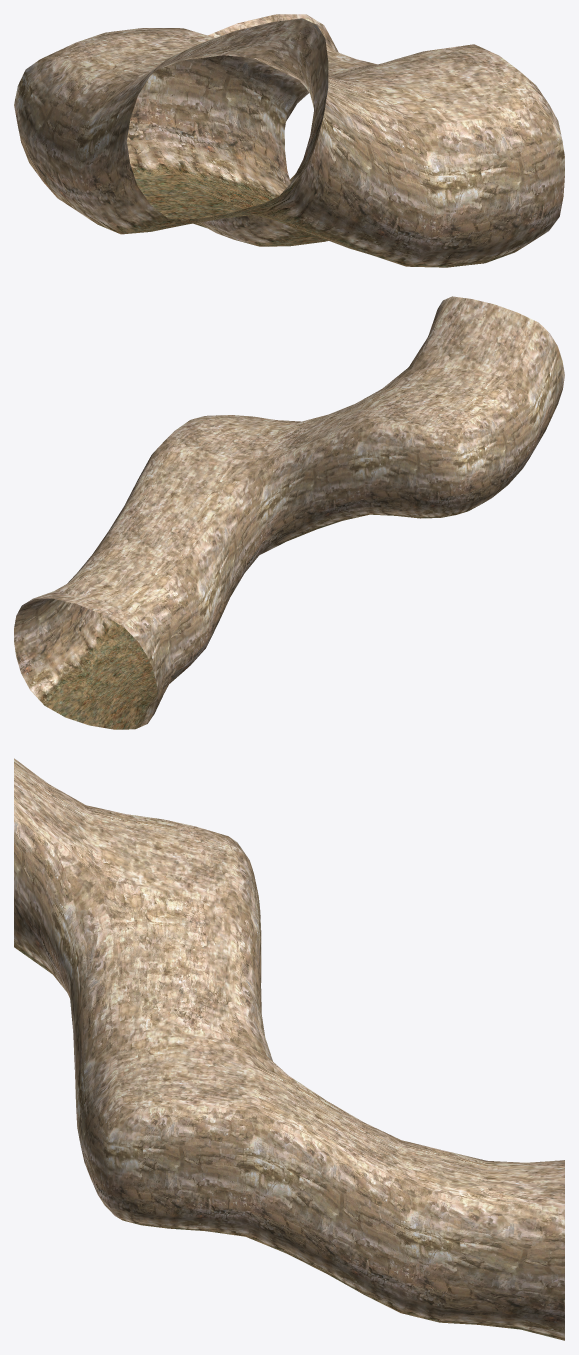
The model's file is thm_all_cave_s01_mirror_r2_mesh_r2.fbx.
3 views of the same model, one above another, from view 1: azimuth 30°, elevation 25°; view 2: azimuth 150°, elevation 25°; view 3: azimuth 270°, elevation 25° (orthographic). The views are drawn at different scales.
Visible parts, largest first — view 1: mesh_node; view 2: mesh_node; view 3: mesh_node.
Part boxes in pixels (bbox=[...]): mesh_node: bbox=[14, 14, 564, 267]; mesh_node: bbox=[14, 296, 564, 729]; mesh_node: bbox=[14, 758, 564, 1340].
Size of the model in its own units: 33.65 by 29.66 by 35.32.
